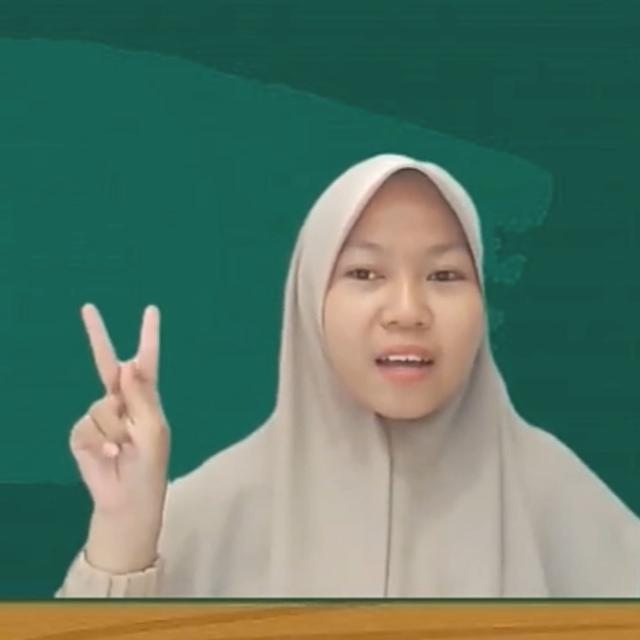K: (68, 299, 174, 545)
